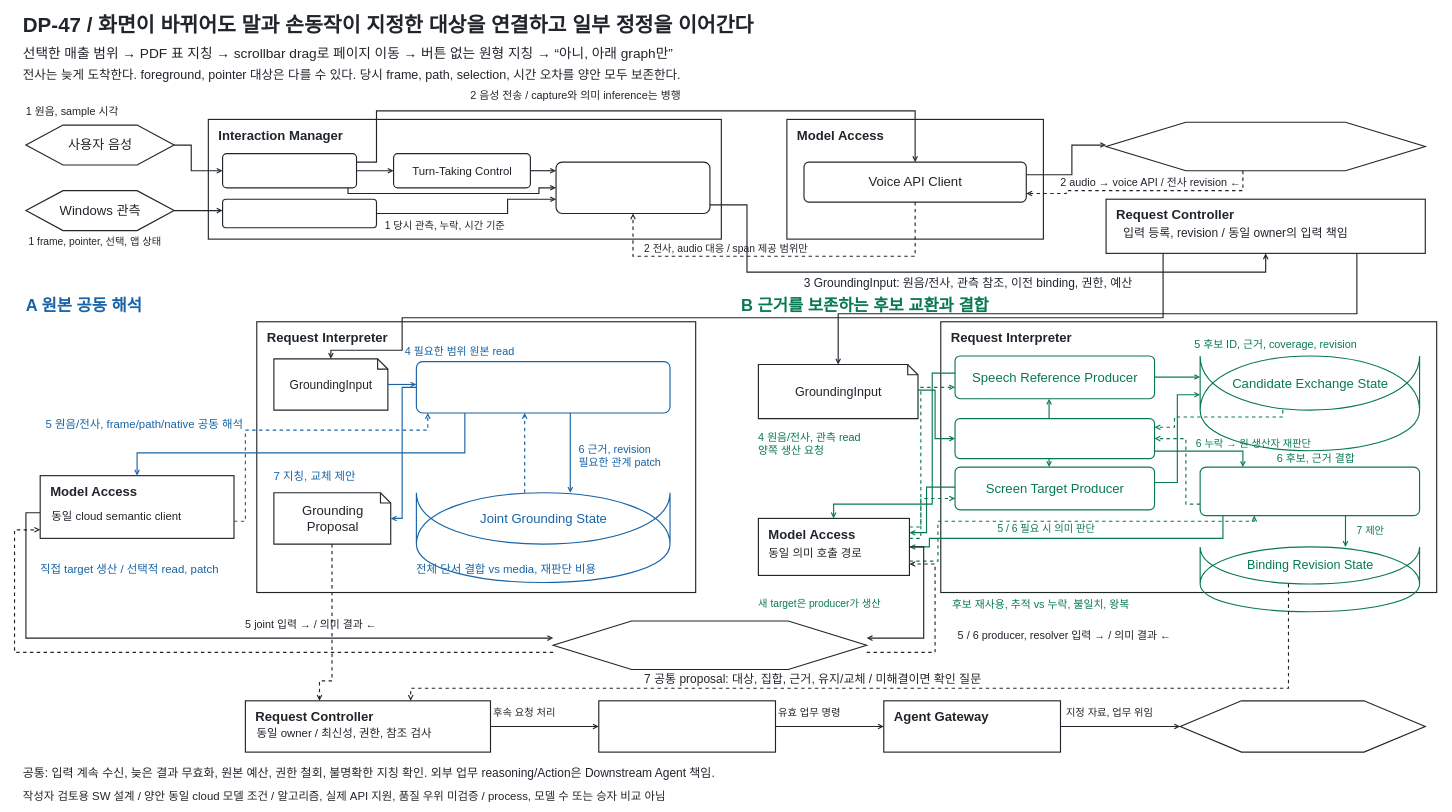
The diagram is 1452 pixels wide and 812 high, and some of its shapes have lost their labels. The centre of each missing label's shape, as x and y in pixels:
"Channel I/O" belongs at point (289, 170).
"Downstream Agent" belongs at point (1302, 726).
"Evidence Capture" belongs at point (299, 213).
"Grounding Coordinator" belongs at point (1054, 438).
"Joint Grounding Interpreter" belongs at point (543, 387).
"Multimodal Binding Resolver" belongs at point (1309, 491).
"Task Manager" belongs at point (687, 726).
"Timeline & Buffer" belongs at point (632, 187).
"클라우드 음성 모델" belongs at point (1265, 146).
"클라우드 의미 모델" belongs at point (709, 645).
